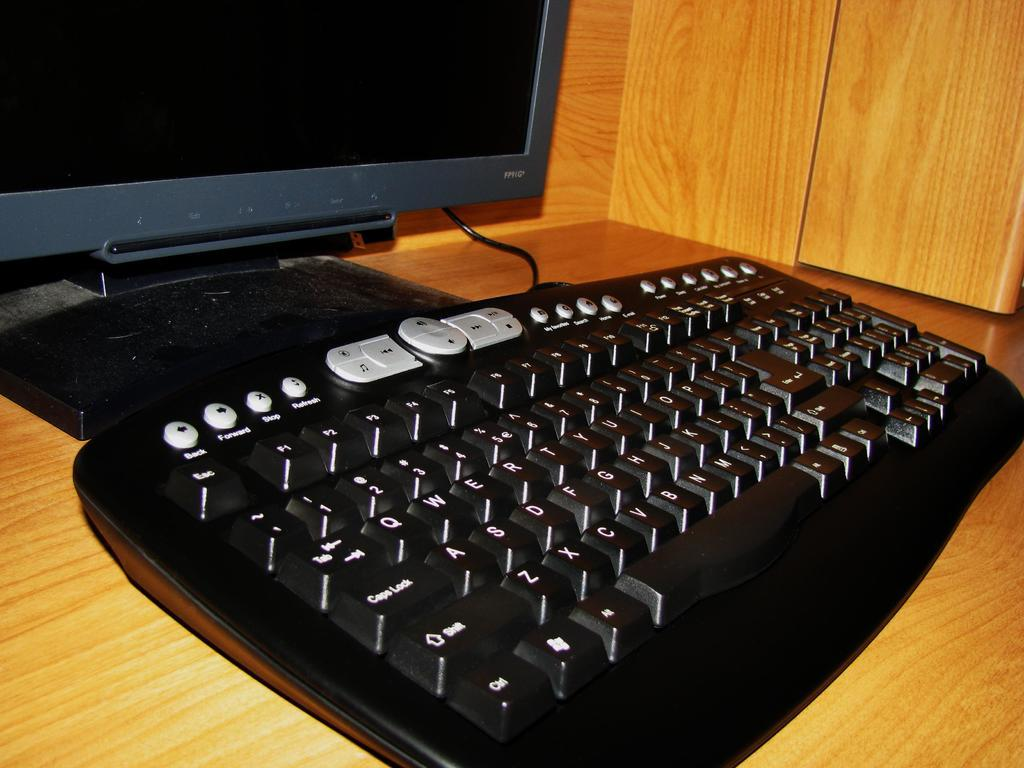Computer-keyboard: (71, 253, 1023, 767)
Computer-monitor: (51, 7, 600, 256)
